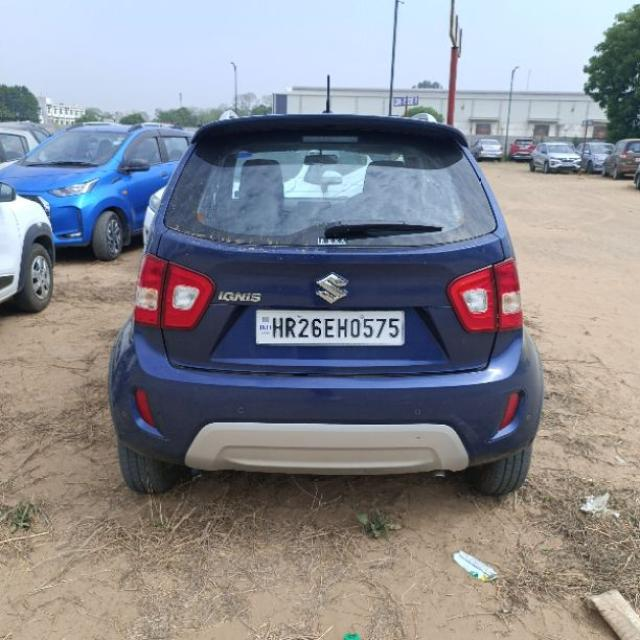license_plate: (253, 308, 406, 346)
